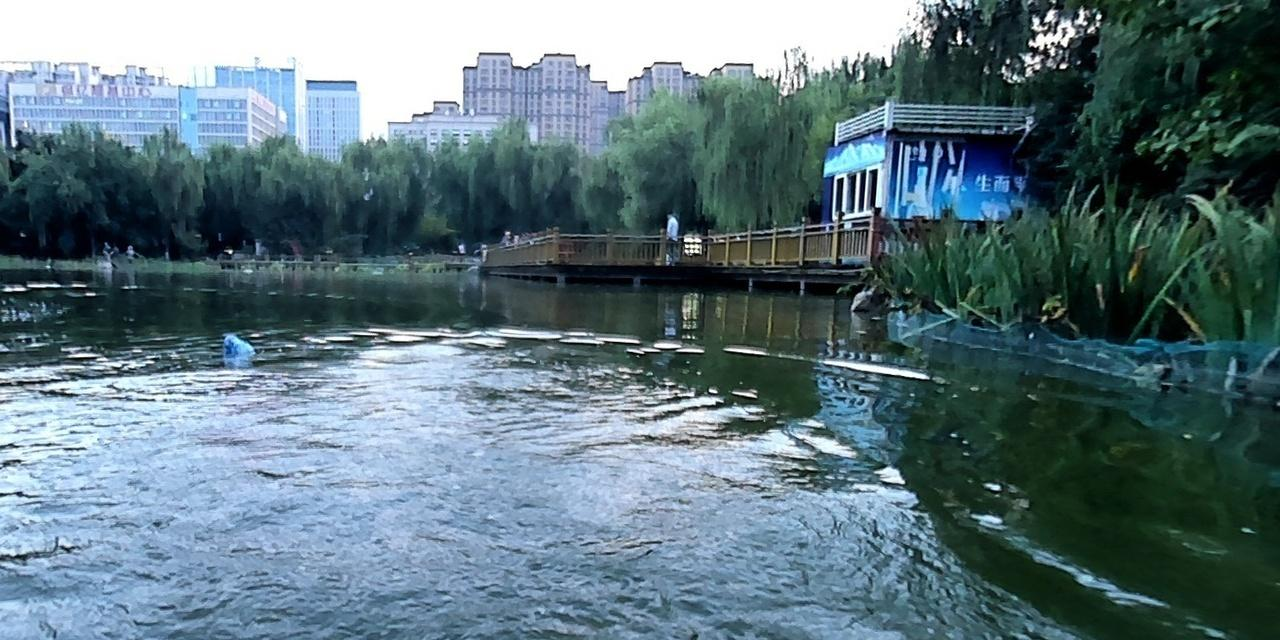bottle: (221, 333, 256, 359)
